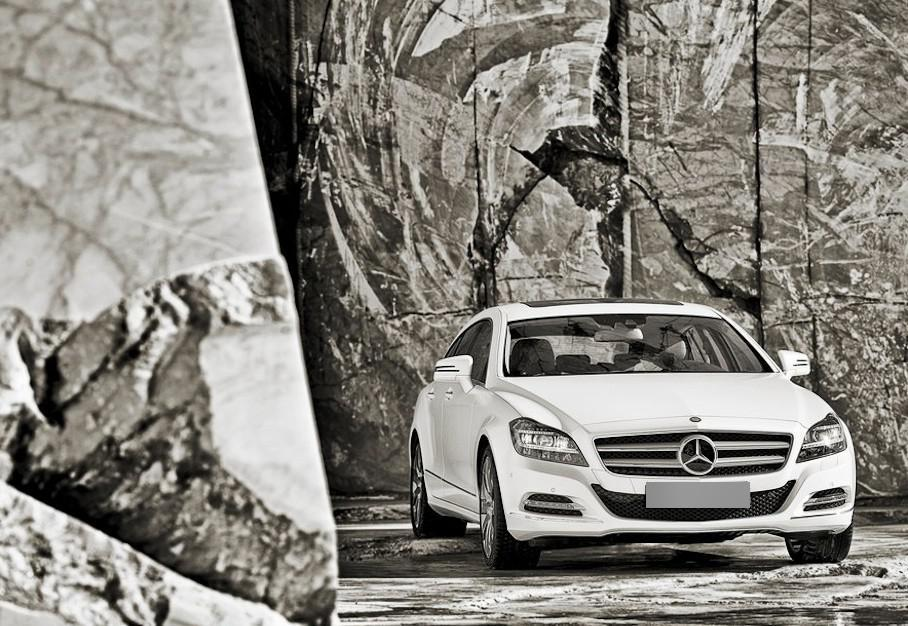Wagon: (408, 296, 859, 569)
